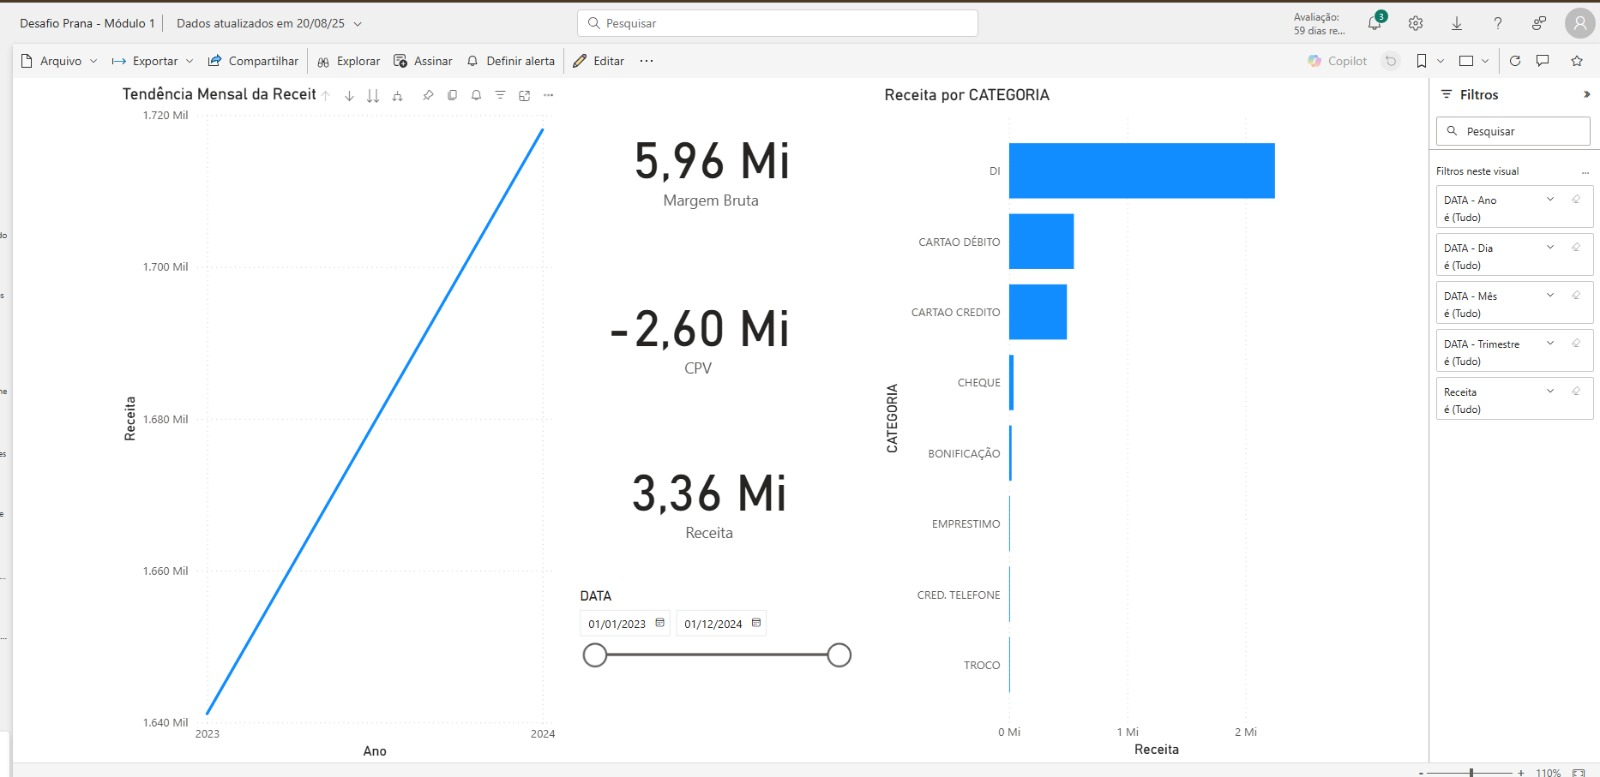

What the dashboard file says about the page in this screenshot:
{"tool":"powerbi","page":{"name":"Página 1","canvas":[1280,720],"ordinal":0},"visuals":[{"type":"card","fields":{"Values":["Dados.Receita"]},"box":[526.7,0,226.7,185.6],"z":2},{"type":"card","fields":{"Values":["Dados.Margem Bruta"]},"box":[526.7,371.1,226.7,185.6],"z":3},{"type":"card","fields":{"Values":["Dados.CPV"]},"box":[526.7,185.6,226.7,185.6],"z":4},{"type":"lineChart","fields":{"Category":["Dados.Data.Variation.Hierarquia de datas.Ano","Dados.Data.Variation.Hierarquia de datas.Trimestre","Dados.Data.Variation.Hierarquia de datas.Mês","Dados.Data.Variation.Hierarquia de datas.Dia"],"Y":["Dados.Receita"]},"box":[0,0,526.7,720],"z":5},{"type":"barChart","fields":{"Y":["Dados.Receita"],"Category":["Dados.CATEGORIA"]},"box":[753.3,0,526.7,720],"z":6},{"type":"slicer","fields":{"Values":["Dados.Data"]},"box":[526.7,578.9,226.7,141.1],"z":7}]}

Visuals, with their boxes in screenshot pixels (x1, y1, x2, y2):
card - Dados.Receita: {"x1": 773, "y1": 0, "x2": 1005, "y2": 190}
card - Dados.Margem Bruta: {"x1": 773, "y1": 380, "x2": 1005, "y2": 570}
card - Dados.CPV: {"x1": 773, "y1": 190, "x2": 1005, "y2": 380}
lineChart - Dados.Data.Variation.Hierarquia de datas.Ano x Dados.Data.Variation.Hierarquia de datas.Trimestre: {"x1": 233, "y1": 0, "x2": 773, "y2": 737}
barChart - Dados.Receita x Dados.CATEGORIA: {"x1": 1005, "y1": 0, "x2": 1544, "y2": 737}
slicer - Dados.Data: {"x1": 773, "y1": 593, "x2": 1005, "y2": 737}
